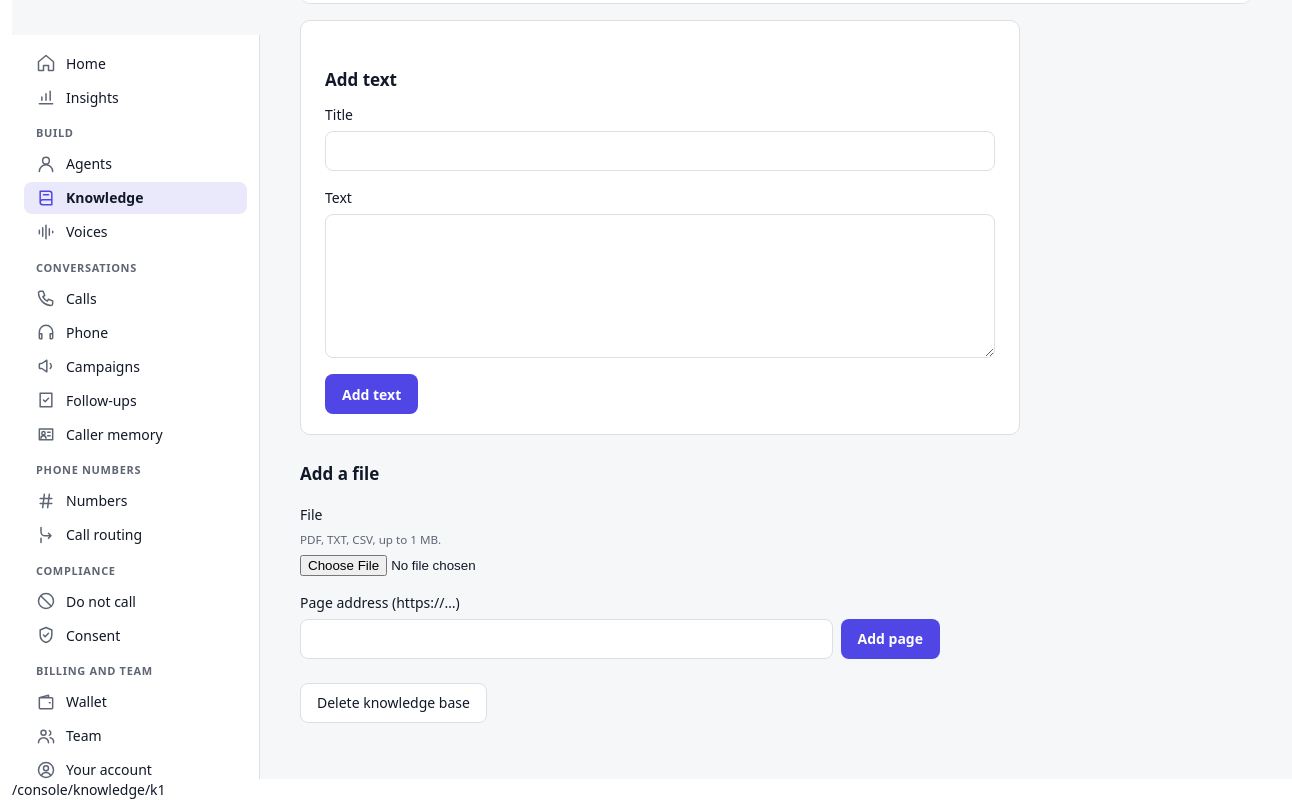
Scenario: a knowledge base › deletes the base only after asking, naming the agents that stop answering from it
(page scrolled)
Step 1. Click the button "Delete knowledge base" → [393, 703], box [300,683,487,723]
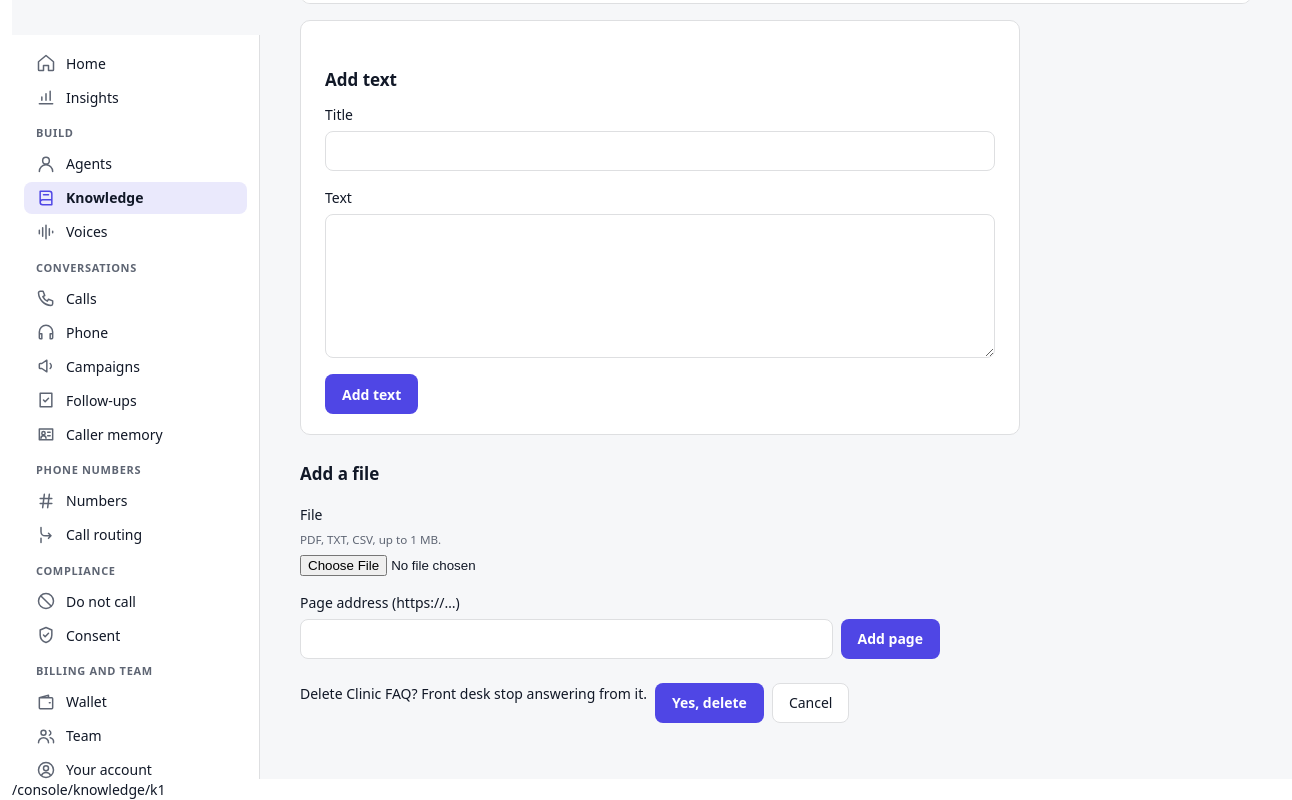
Check: the text "Delete Clinic FAQ? Front desk stop answering from it." is shown, box [300,684,647,703]
Step 2. Click the button "Yes, delete" → [709, 703], box [655,683,764,723]
(page scrolled)
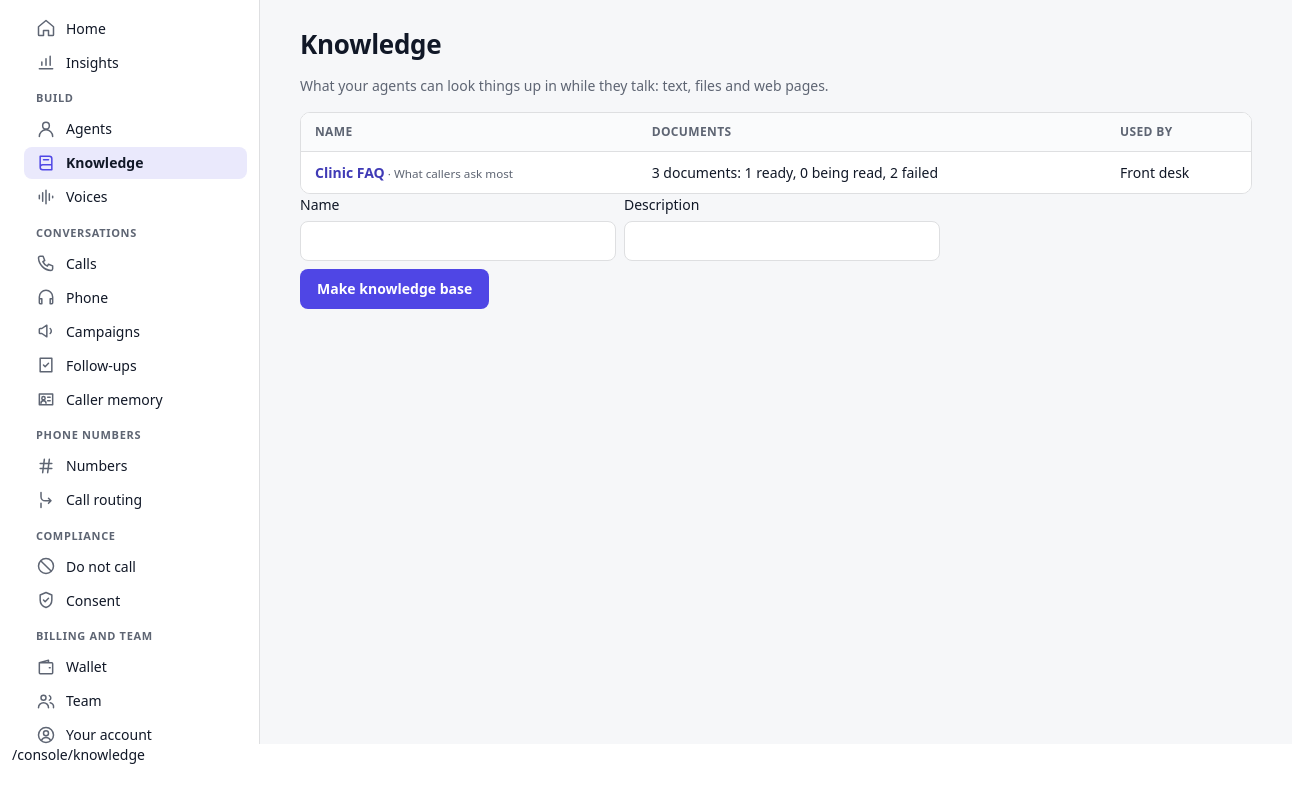
Check: the text with test id "where" reads "/console/knowledge", box [12,745,145,764]
